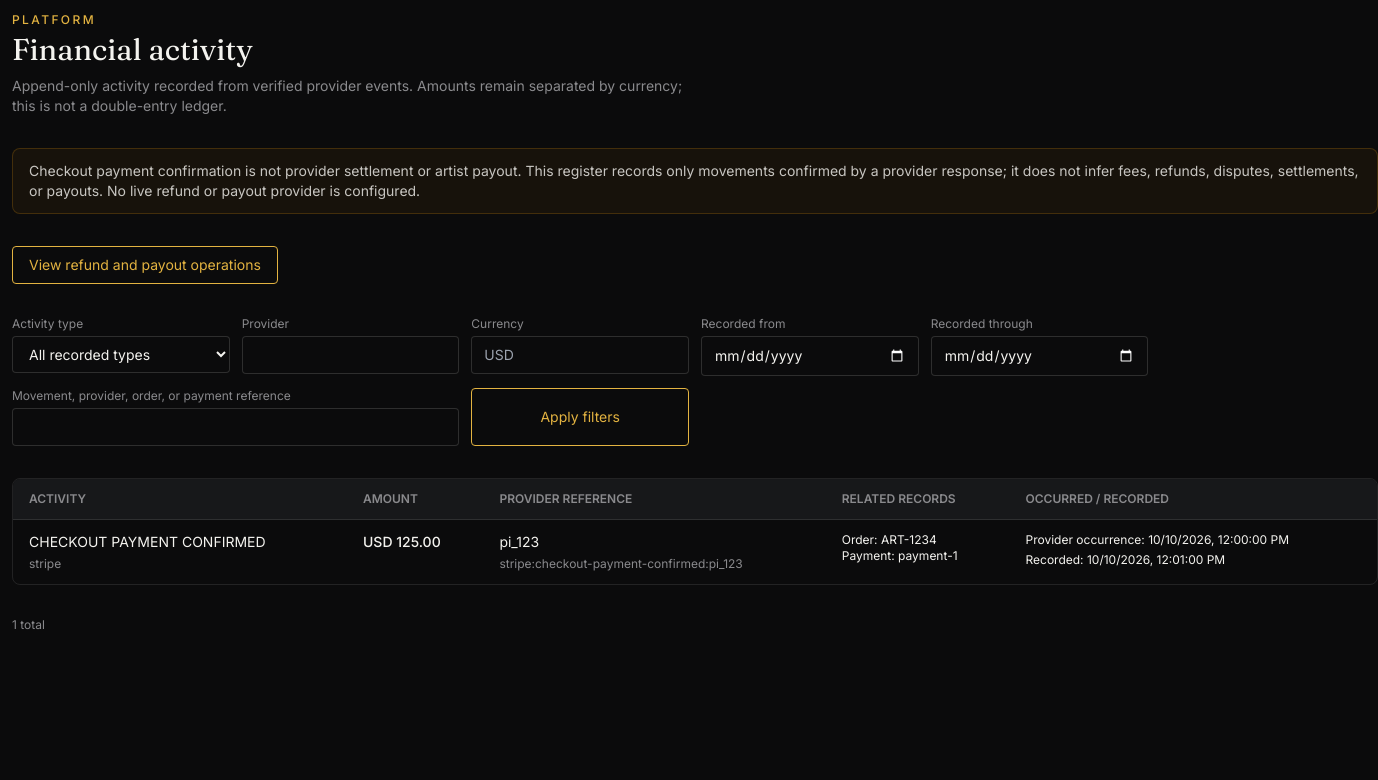
Test case: Admin financial activity page › applies filters and renders empty state without adding cross-currency totals
Expected: the text "USD 125.00" is shown, x1=347 y1=520 x2=483 y2=584
In the field labelled "Provider": (351,355) x1=242 y1=336 x2=459 y2=374, type "stripe"
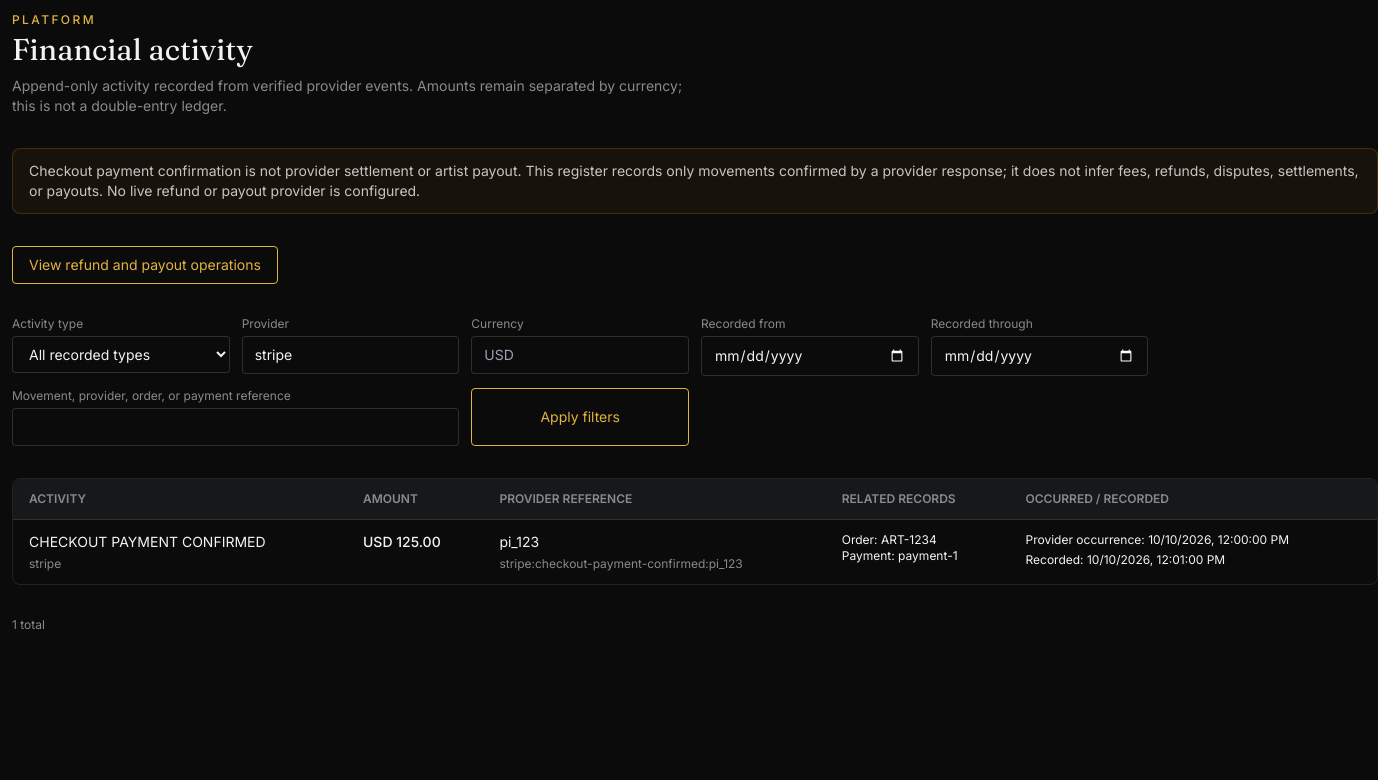
In the field labelled "Currency": (580,355) x1=471 y1=336 x2=689 y2=374, type "usd"
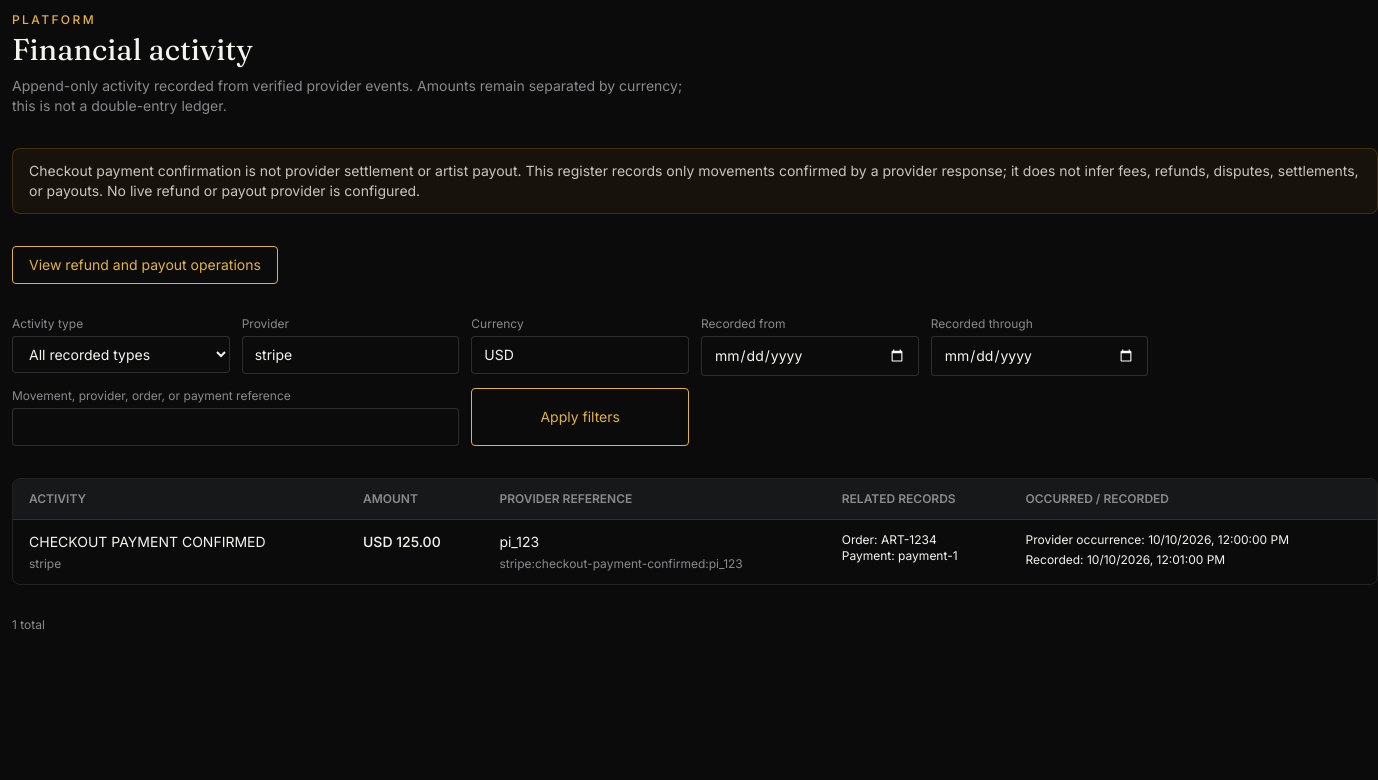
In the date field labelled "Recorded from": (810,356) x1=701 y1=336 x2=919 y2=376, type "2026-10-01"
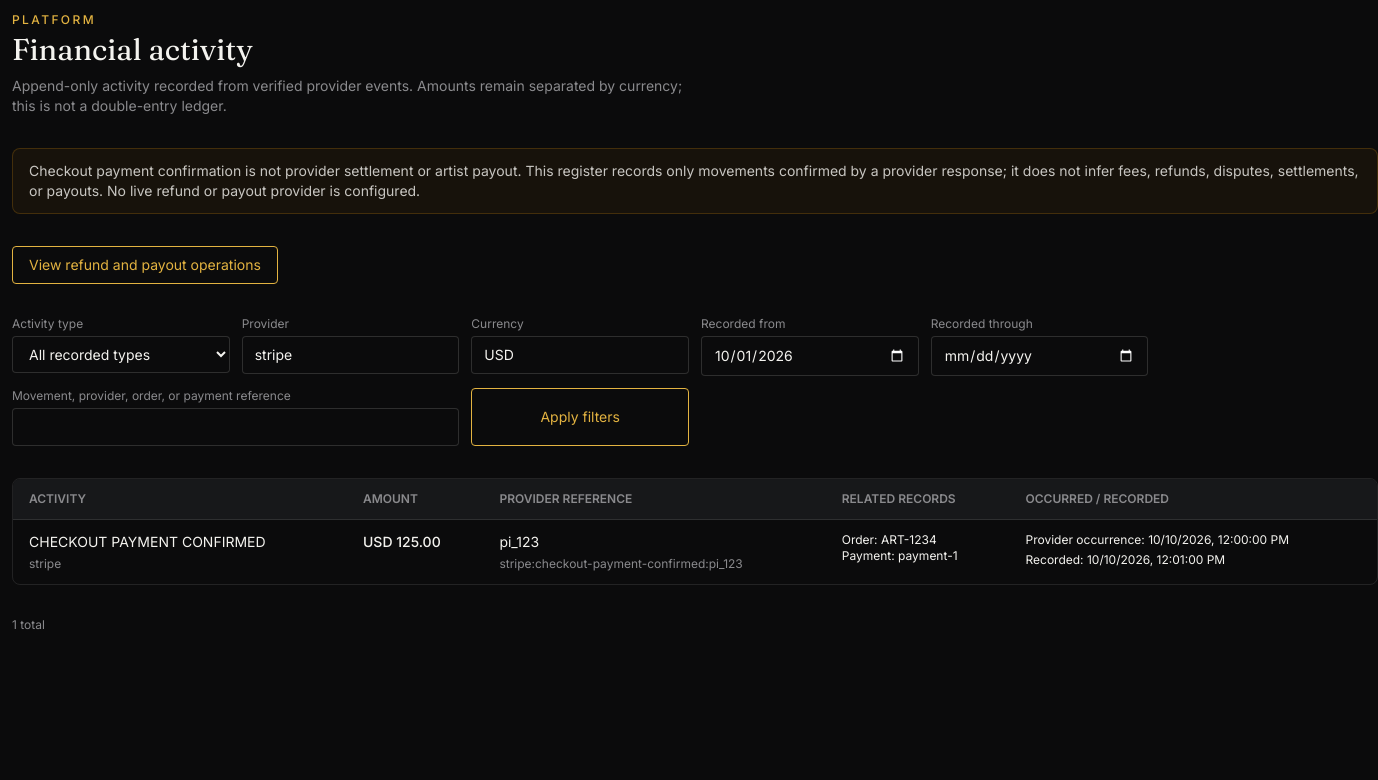
In the field labelled "Movement, provider, order, or payment reference": (236,427) x1=12 y1=408 x2=459 y2=446, type "pi_123"
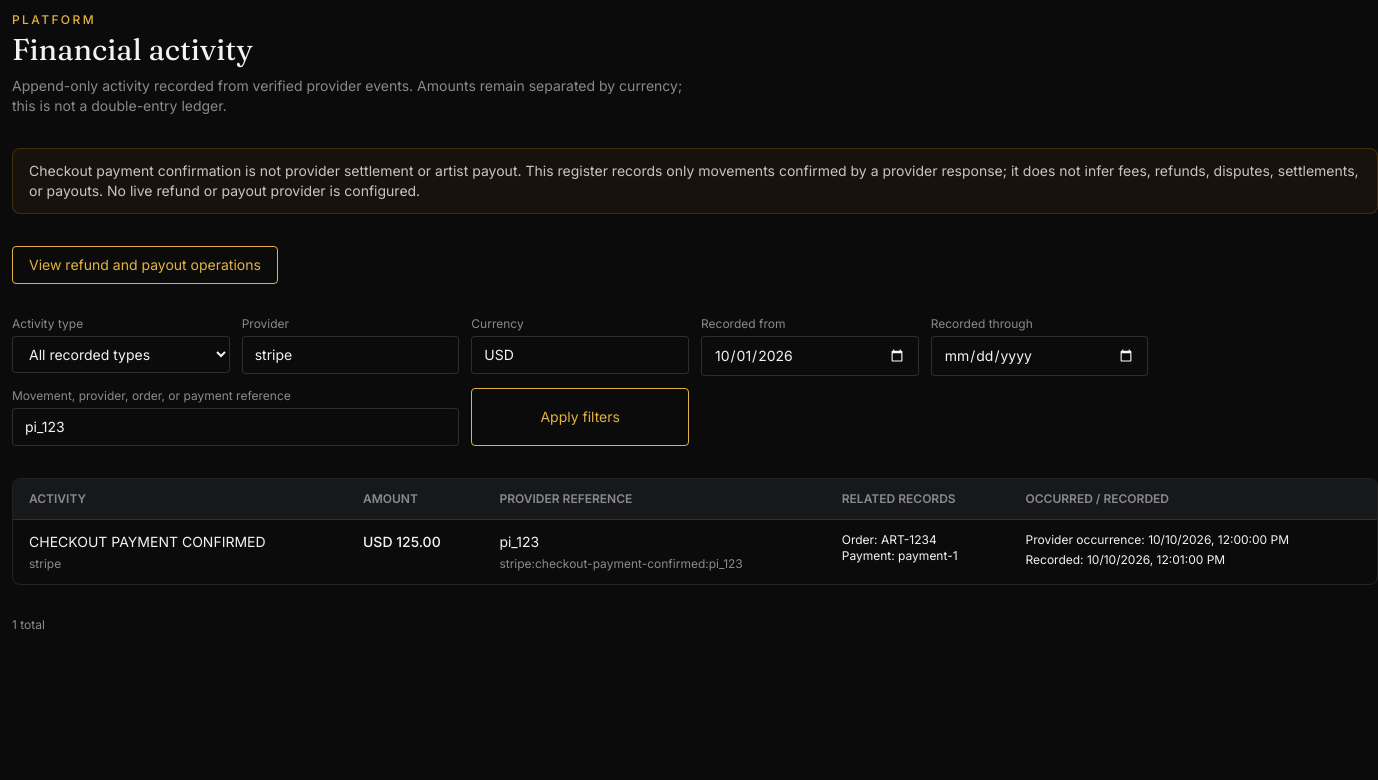
Click the button "Apply filters": (580,417) x1=471 y1=388 x2=689 y2=446
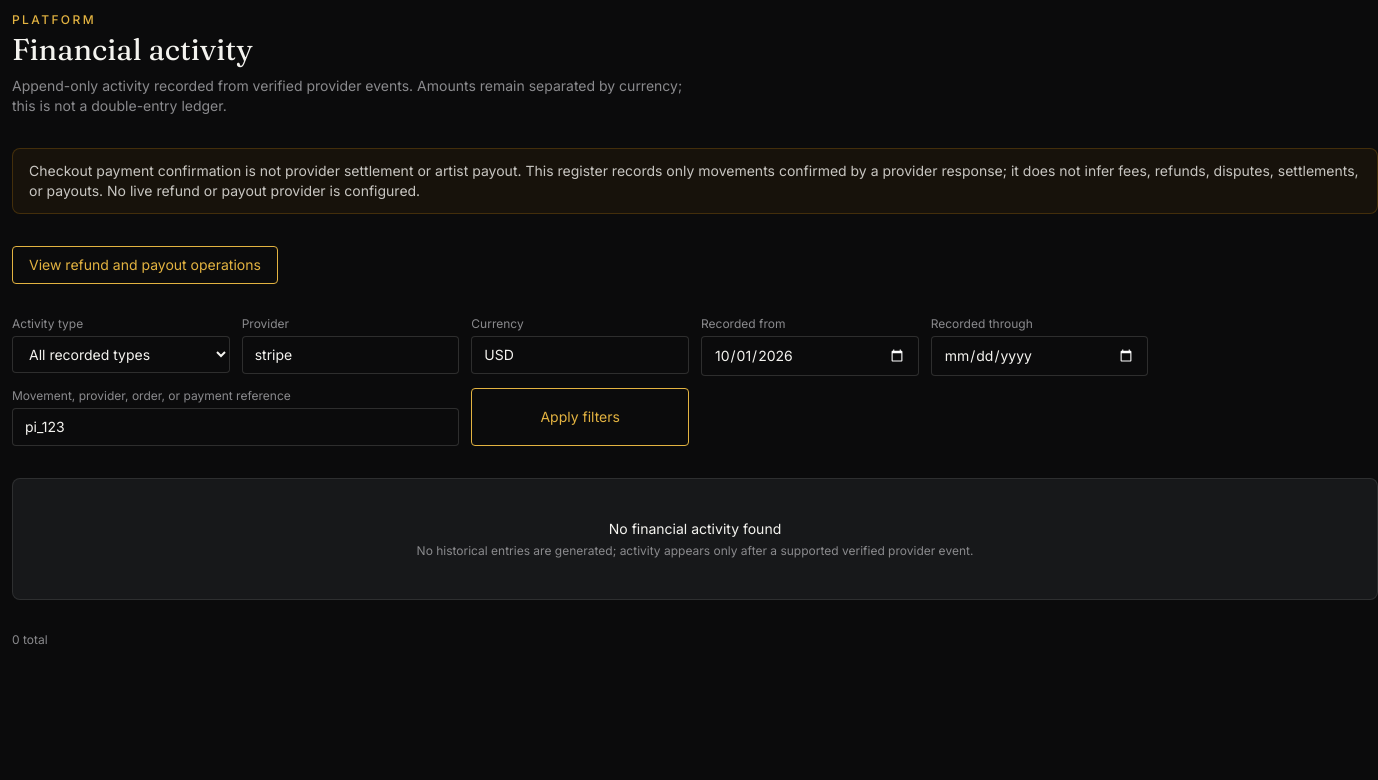
Expected: the text "No financial activity found" is shown, x1=609 y1=520 x2=781 y2=537
